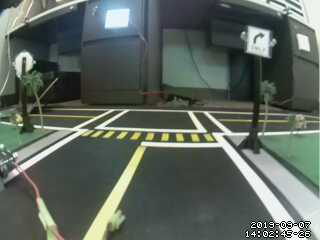Right_only_sign: (241, 25, 273, 61)
